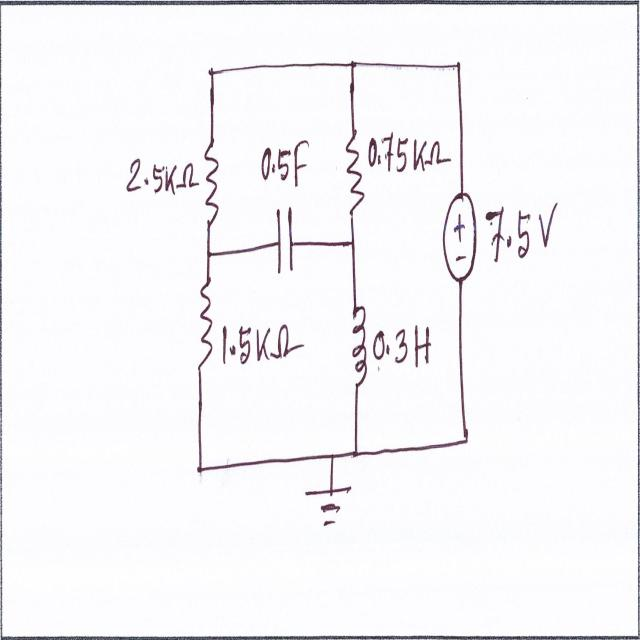capacitor: (274, 201, 296, 278)
ground: (303, 482, 353, 530)
inductor: (350, 300, 369, 397)
resistor: (342, 124, 367, 222), (192, 271, 215, 376), (200, 138, 222, 232)
voltage_source: (439, 186, 479, 289)
